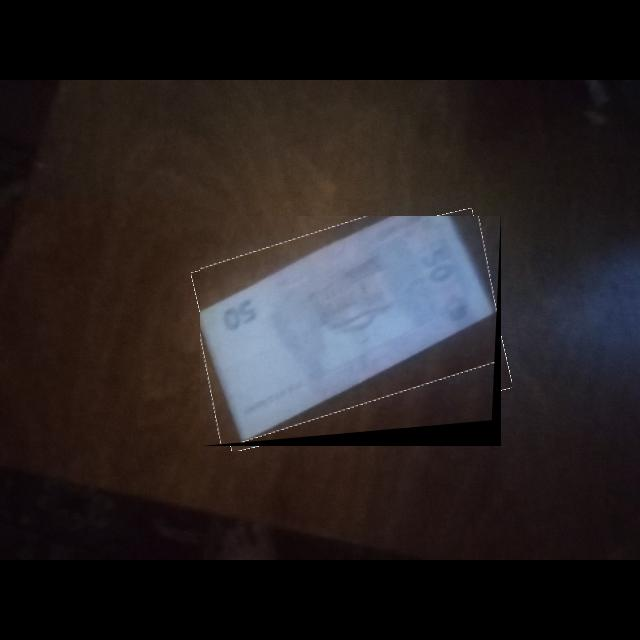50uah: (200, 216, 498, 445)
